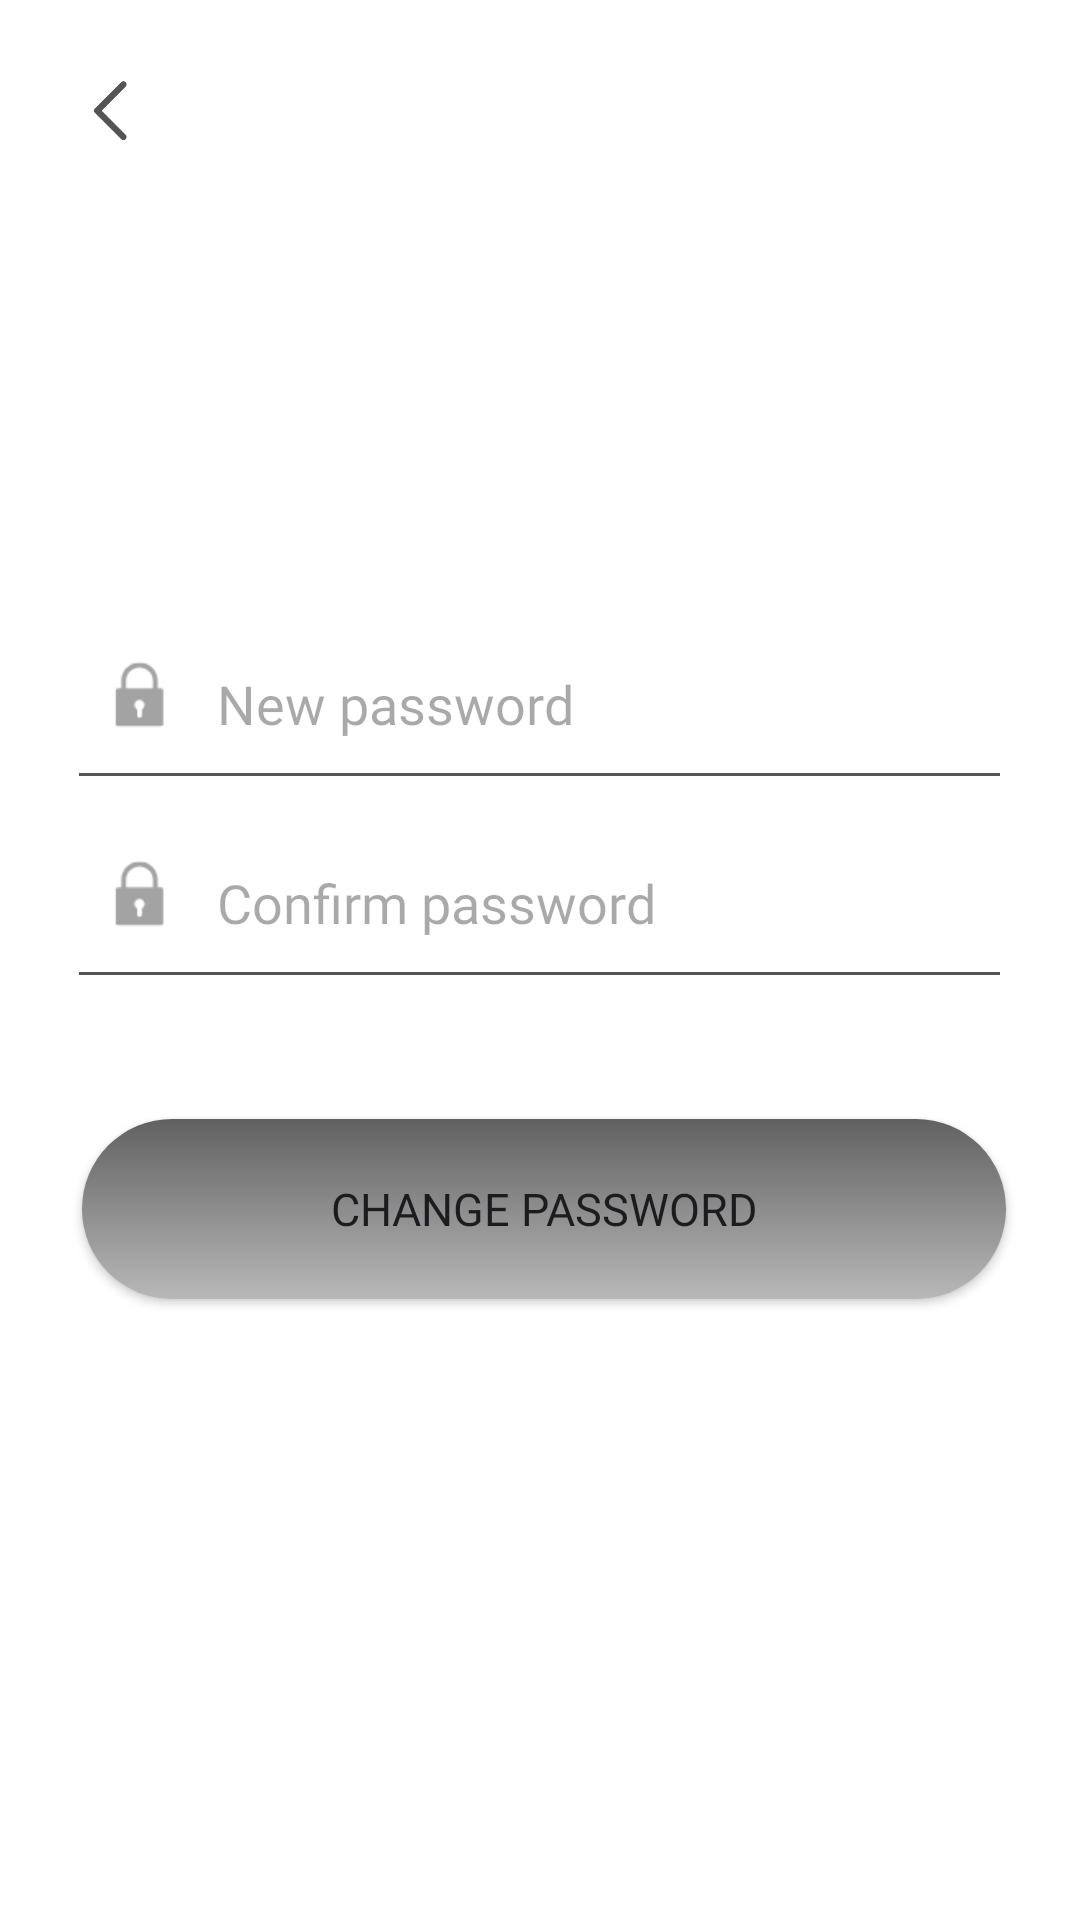

Icons on this 1080×1920 Android screen, each with the point to tap as [x,y]:
back button: [110,110]
Lock Icon: [139,695], [139,894]
